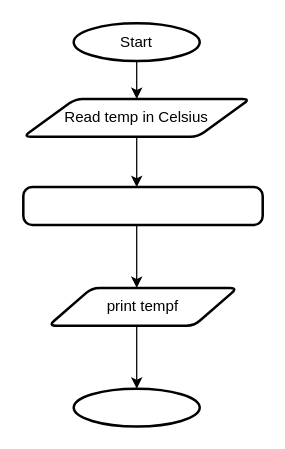
Some shapes in this 285 by 449 pixel diagram are drawn without their labels. The centre of each missing label's shape, as x and y in pixels:
"Stop" belongs at pixel 136 407.
"tempf=(temp * (9/5)) + 32" belongs at pixel 142 205.
